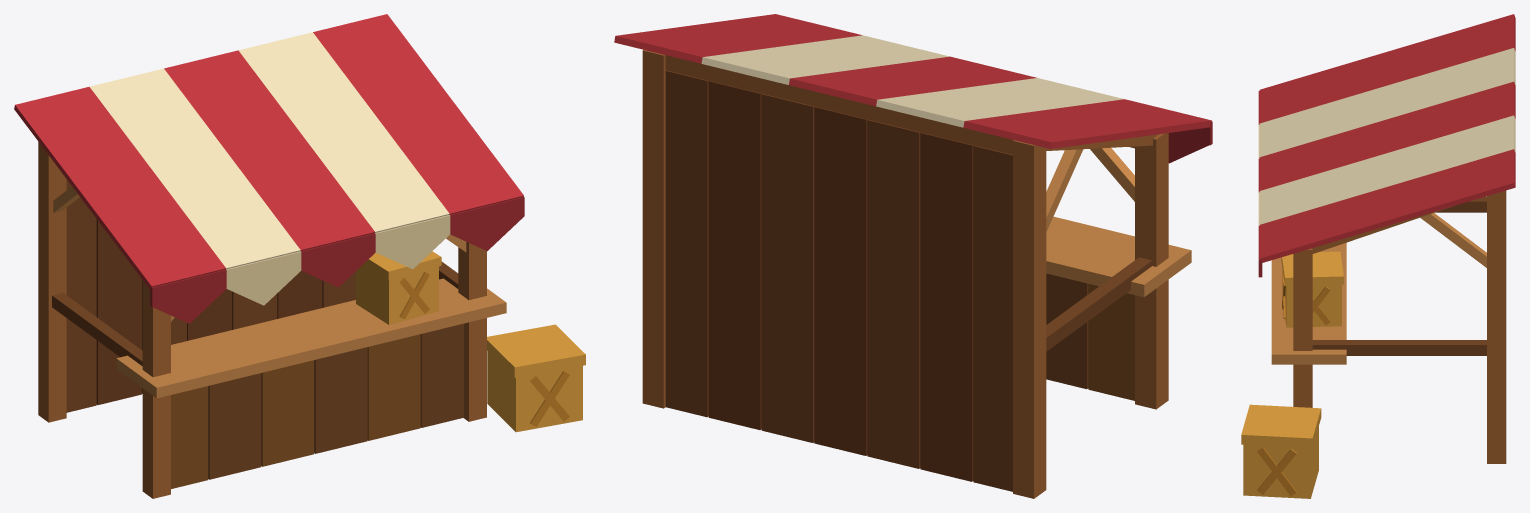
The model's file is market-stall.glb.
3 views of the same model, side by side, from view 1: azimuth 30°, elevation 25°; view 2: azimuth 150°, elevation 25°; view 3: azimuth 270°, elevation 25° (orthographic). The views are drawn at different scales.
Parts seen in each view (by area): view 1: market-stall; view 2: market-stall; view 3: market-stall.
Boxes of the visible parts, box(x1,y1,x2,y2) form: market-stall: box(14, 14, 585, 498); market-stall: box(614, 14, 1212, 498); market-stall: box(1241, 14, 1515, 498).
Bounding box in the file's own units: 3.83 × 2.64 × 2.27.
